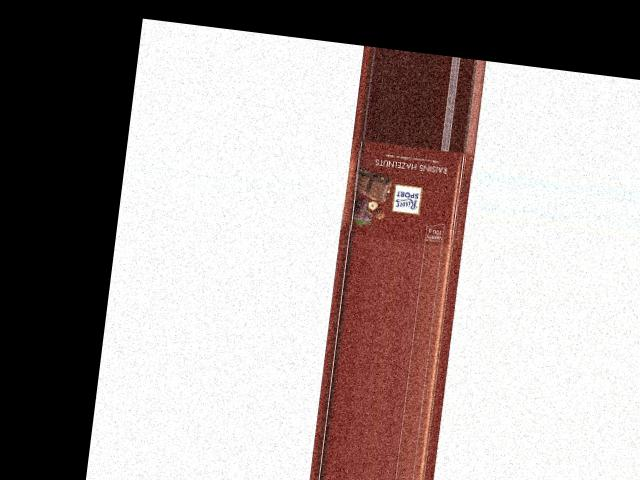chocolate: (338, 137, 474, 249)
